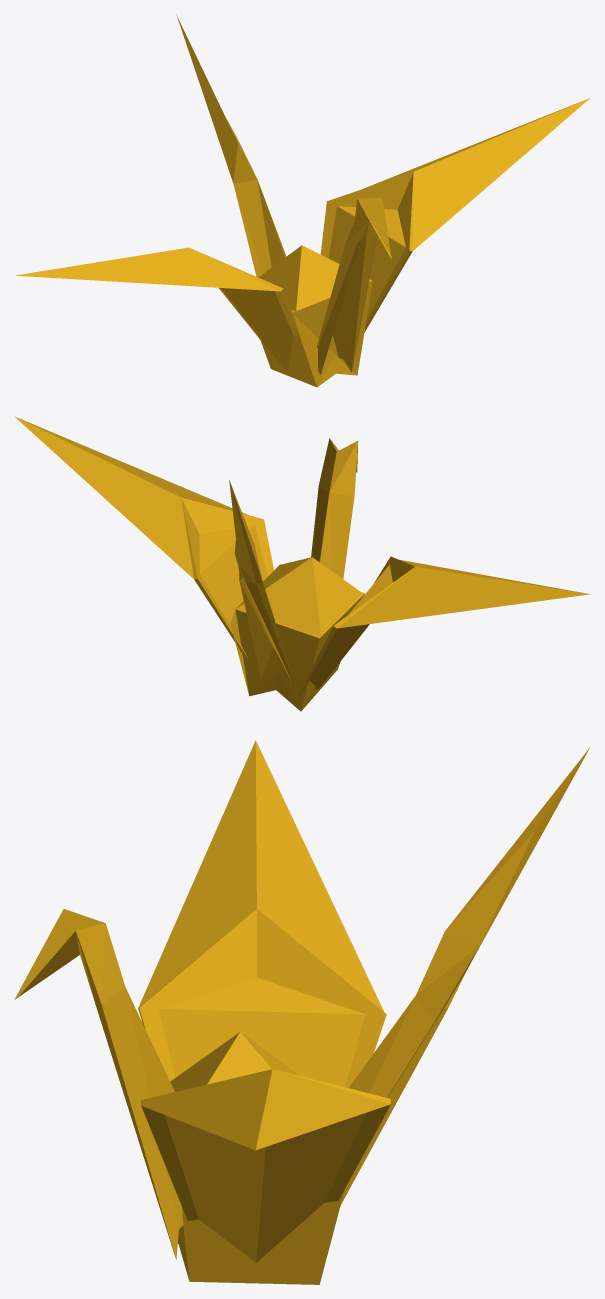
File: google poly yellow.obj
3 renders of one model, top to bottom at view 1: azimuth 30°, elevation 25°; view 2: azimuth 150°, elevation 25°; view 3: azimuth 270°, elevation 25°, orthographic. The views are drawn at different scales.
Visible parts, largest first — view 1: default; view 2: default; view 3: default.
Boxes of the visible parts, x1,y1,x2,y2 form: default: [15, 15, 589, 387]; default: [14, 416, 589, 711]; default: [14, 740, 589, 1284].
Size of the model in its own units: 129 by 63.52 by 66.7.
